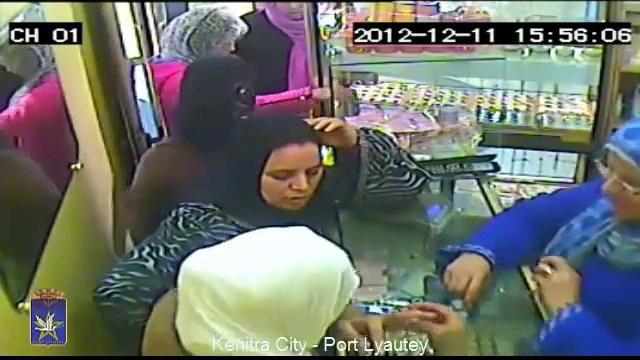Product: (398, 301, 422, 326)
Product-Picked: (116, 231, 445, 360)
Regular: (465, 86, 640, 360), (138, 0, 360, 117), (248, 122, 372, 239), (159, 56, 254, 163), (253, 0, 321, 111)
